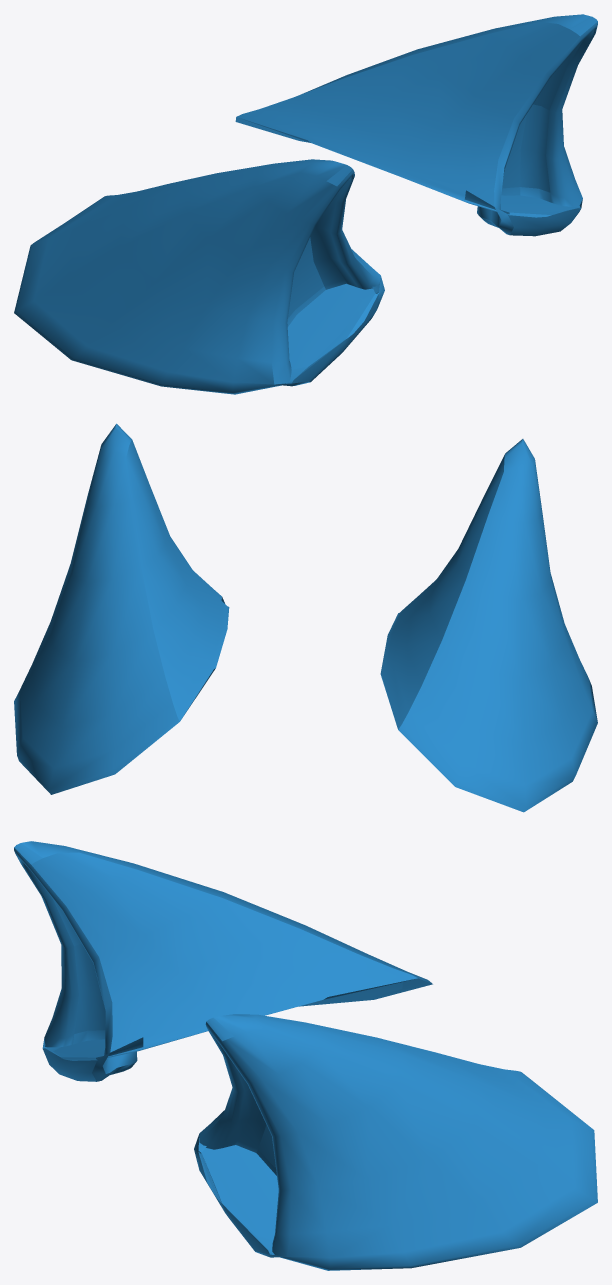
3 renders of one model, top to bottom at view 1: azimuth 30°, elevation 25°; view 2: azimuth 150°, elevation 25°; view 3: azimuth 270°, elevation 25°, orthographic. The views are drawn at different scales.
Parts seen in each view (by area): view 1: ears_004; view 2: ears_004; view 3: ears_004.
Part boxes in pixels (bbox=[...]): ears_004: bbox=[14, 14, 597, 394]; ears_004: bbox=[14, 423, 597, 812]; ears_004: bbox=[14, 841, 597, 1270].
Size of the model in its own units: 82.35 by 73.06 by 34.86.
